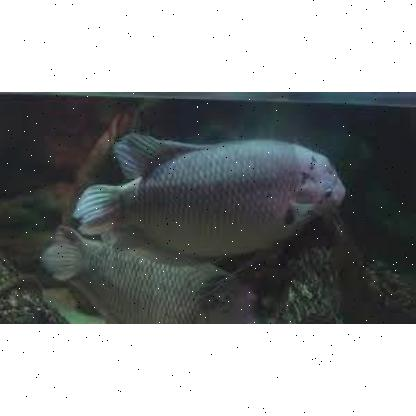gurame: (84, 136, 354, 254), (50, 231, 260, 323)
